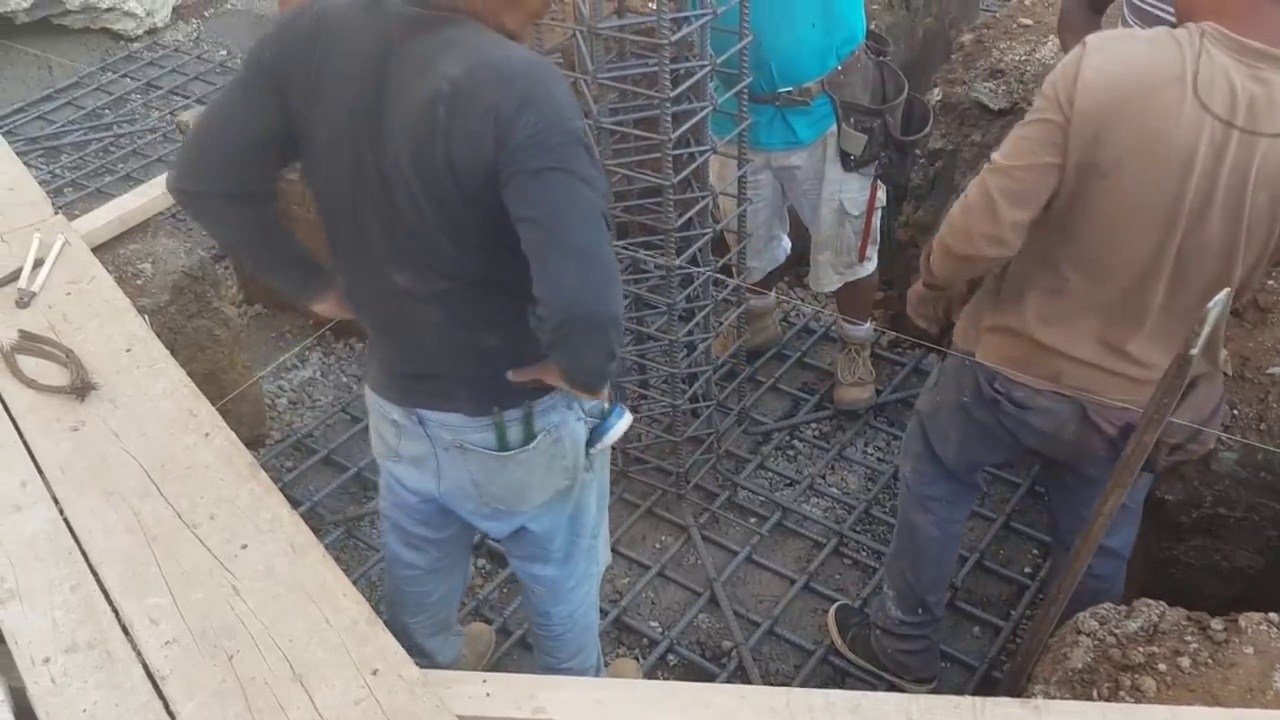person: (825, 2, 1280, 693), (176, 0, 643, 660), (695, 0, 885, 417)
